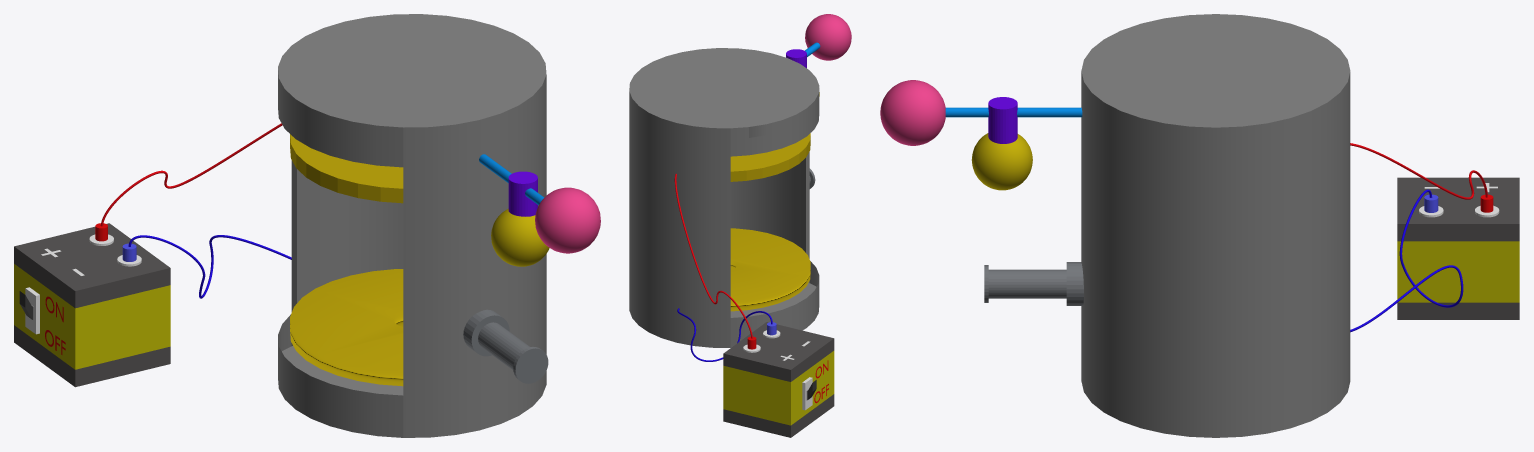
Rendered from LABWG1.fbx.
3 views of the same model, side by side, from view 1: azimuth 30°, elevation 25°; view 2: azimuth 150°, elevation 25°; view 3: azimuth 270°, elevation 25° (orthographic). The views are drawn at different scales.
Visible parts, largest first — view 1: Cylinder, Plate1.001, Cube, Cylinder.008, Cube.001, Plate1, Sphere, Cylinder.007, Sphere.001, Cylinder.004, BézierCurve, BézierCurve.001 (+1 smaller); view 2: Cylinder, Plate1.001, Cube, Cube.001, Cylinder.008, Plate1, Sphere, BézierCurve.001, BézierCurve, Cylinder.004, Cube.002; view 3: Cylinder, Cube, Cube.001, Sphere, Cylinder.007, Sphere.001, Cylinder.004, Cylinder.003, BézierCurve.
Boxes of the visible parts, x1=… form: Cylinder: x1=278, y1=14, x2=546, y2=437; Plate1.001: x1=290, y1=269, x2=403, y2=386; Cube: x1=14, y1=223, x2=170, y2=387; Cylinder.008: x1=278, y1=86, x2=403, y2=437; Cube.001: x1=14, y1=264, x2=170, y2=369; Plate1: x1=290, y1=134, x2=403, y2=203; Sphere: x1=535, y1=187, x2=600, y2=253; Cylinder.007: x1=463, y1=309, x2=548, y2=383; Sphere.001: x1=491, y1=208, x2=549, y2=266; Cylinder.004: x1=508, y1=171, x2=537, y2=216; BézierCurve: x1=128, y1=235, x2=291, y2=298; BézierCurve.001: x1=100, y1=123, x2=282, y2=226; Cylinder: x1=629, y1=48, x2=819, y2=347; Plate1.001: x1=730, y1=228, x2=810, y2=311; Cube: x1=723, y1=322, x2=834, y2=437; Cube.001: x1=723, y1=351, x2=834, y2=425; Cylinder.008: x1=730, y1=88, x2=819, y2=347; Plate1: x1=730, y1=133, x2=810, y2=181; Sphere: x1=805, y1=14, x2=851, y2=60; BézierCurve.001: x1=674, y1=174, x2=752, y2=338; BézierCurve: x1=677, y1=308, x2=772, y2=361; Cylinder.004: x1=786, y1=49, x2=806, y2=68; Cube.002: x1=802, y1=377, x2=812, y2=410; Cylinder: x1=1081, y1=14, x2=1350, y2=437; Cube: x1=1397, y1=177, x2=1519, y2=319; Cube.001: x1=1397, y1=241, x2=1519, y2=302; Sphere: x1=880, y1=80, x2=945, y2=145; Cylinder.007: x1=984, y1=262, x2=1083, y2=305; Sphere.001: x1=971, y1=133, x2=1032, y2=190; Cylinder.004: x1=988, y1=97, x2=1017, y2=143; Cylinder.003: x1=945, y1=107, x2=1082, y2=117; BézierCurve: x1=1350, y1=189, x2=1463, y2=332.
Bounding box in the file's own units: 354 × 291 × 523.
